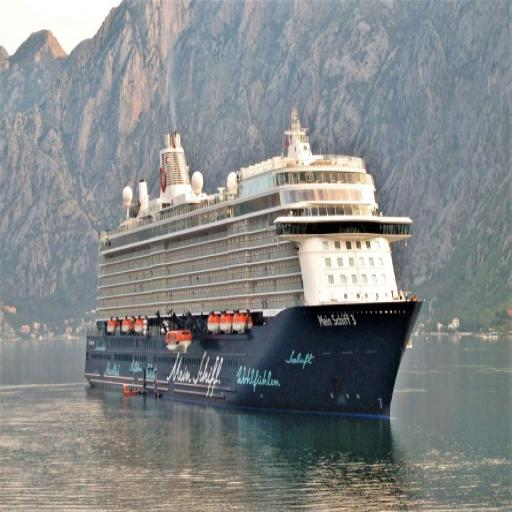cruises: (82, 110, 425, 434)
